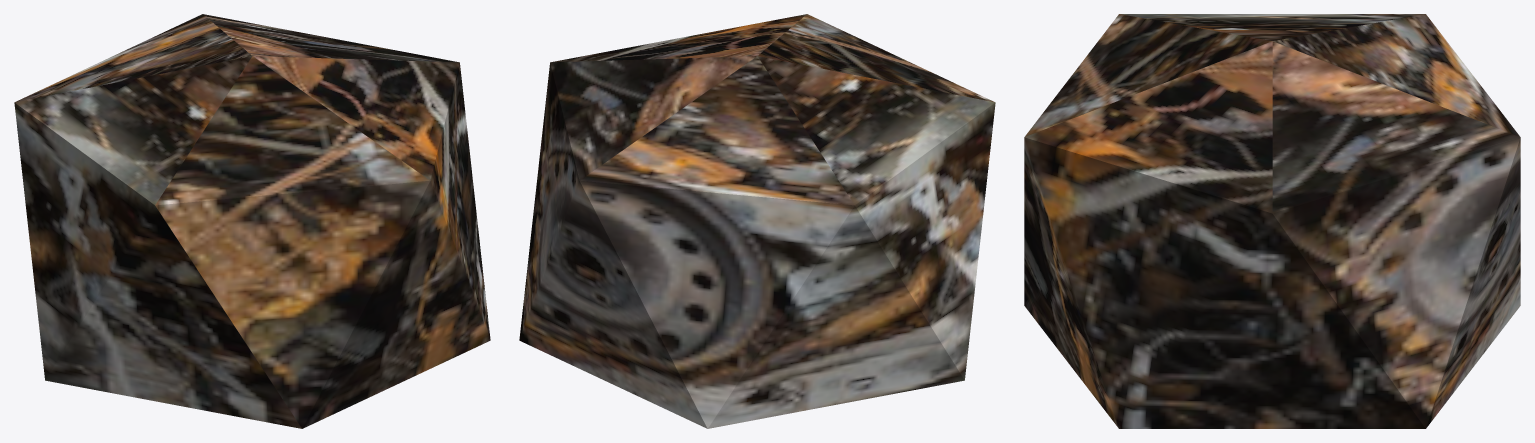
Rendered from MetalSucata.glb.
3 renders of one model, left to right at view 1: azimuth 30°, elevation 25°; view 2: azimuth 150°, elevation 25°; view 3: azimuth 270°, elevation 25°, orthographic. The views are drawn at different scales.
Visible parts, largest first — view 1: Icosphere; view 2: Icosphere; view 3: Icosphere.
Boxes of the visible parts, box(x1,y1,x2,y2) form: Icosphere: box(14, 14, 490, 428); Icosphere: box(519, 14, 995, 428); Icosphere: box(1024, 14, 1520, 428).
Bounding box in the file's own units: 1.72 × 1.31 × 1.63.
1 material, 1 textured.
